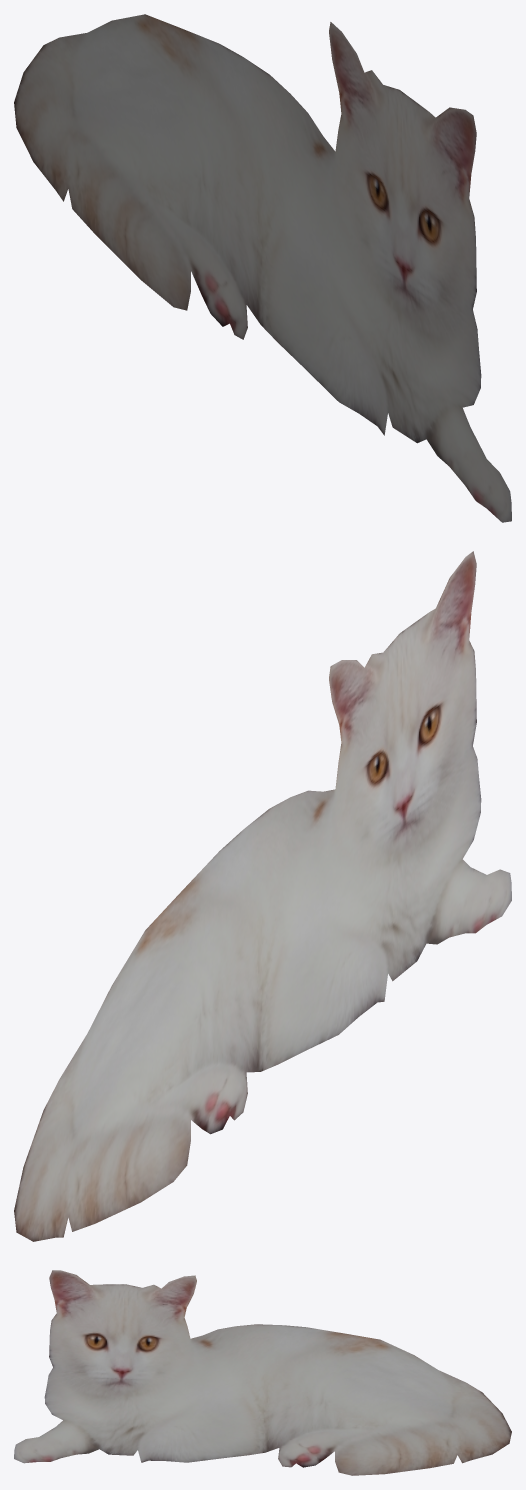
The model's file is weiße.katze_liegend.glb.
3 renders of one model, top to bottom at view 1: azimuth 30°, elevation 25°; view 2: azimuth 150°, elevation 25°; view 3: azimuth 270°, elevation 25°, orthographic. The views are drawn at different scales.
Parts seen in each view (by area): view 1: 19391932-weiße-katze-auf-braunem-hintergrund; view 2: 19391932-weiße-katze-auf-braunem-hintergrund; view 3: 19391932-weiße-katze-auf-braunem-hintergrund.
Part boxes in pixels (x1,y1,x2,y2): 19391932-weiße-katze-auf-braunem-hintergrund: (14,14,511,522); 19391932-weiße-katze-auf-braunem-hintergrund: (14,551,511,1241); 19391932-weiße-katze-auf-braunem-hintergrund: (14,1270,511,1475).
Bounding box in the file's own units: 0 × 1.11 × 2.44.
Materials: 1 (1 with a texture image).
